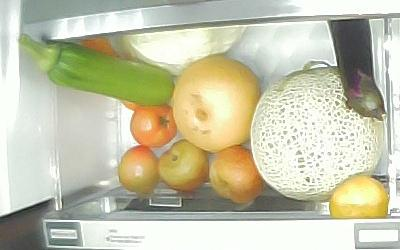cabbage: (121, 24, 250, 72)
eggplant: (325, 20, 387, 122)
melon: (251, 61, 385, 203)
pear: (171, 55, 263, 150)
prune: (209, 144, 264, 204), (158, 139, 209, 192), (117, 145, 161, 196)
tangerine: (328, 174, 387, 218)
tomato: (130, 103, 177, 149)
zucchini: (19, 34, 176, 108)
